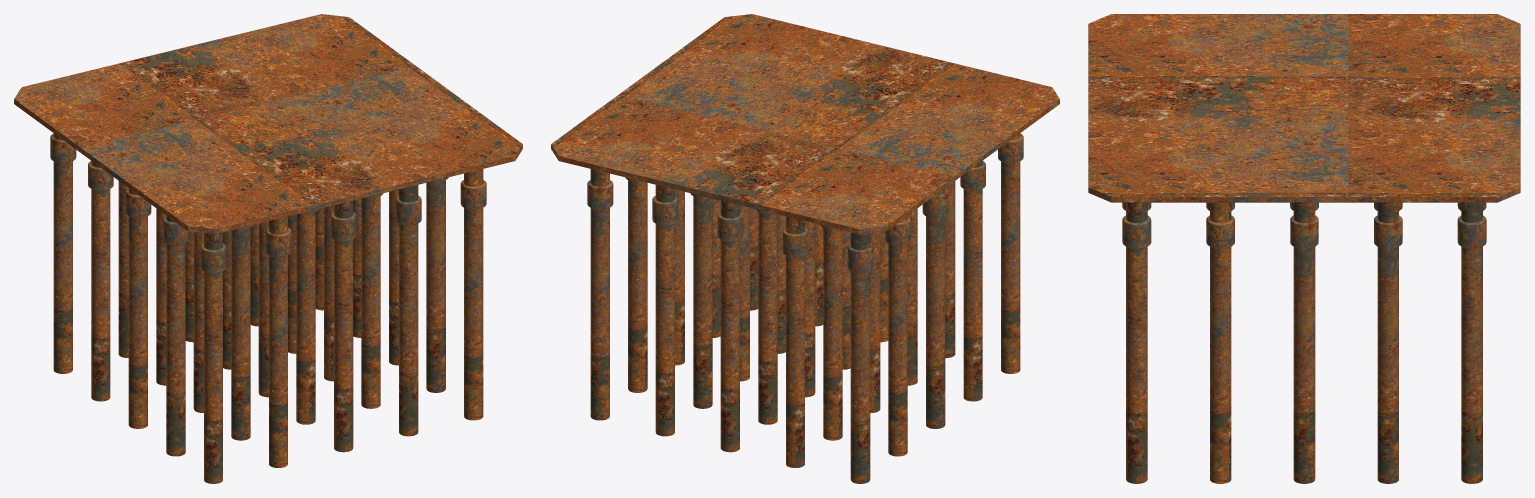
The model's file is SM_Plateform_Base_A.mtl.obj.
The picture shows the model from 3 angles, left to right: view 1: azimuth 30°, elevation 25°; view 2: azimuth 150°, elevation 25°; view 3: azimuth 270°, elevation 25°; orthographic projection. The views are drawn at different scales.
Parts seen in each view (by area): view 1: Plane.003, Plane.002; view 2: Plane.003, Plane.002; view 3: Plane.002, Plane.003.
Part boxes in pixels (box(x1,y1,x2,y2)): Plane.003: box(50, 133, 486, 483); Plane.002: box(14, 14, 522, 234); Plane.003: box(587, 133, 1023, 483); Plane.002: box(551, 14, 1059, 234); Plane.002: box(1088, 14, 1520, 202); Plane.003: box(1122, 202, 1486, 483).
Bounding box in the file's own units: 40 × 30.95 × 40.
